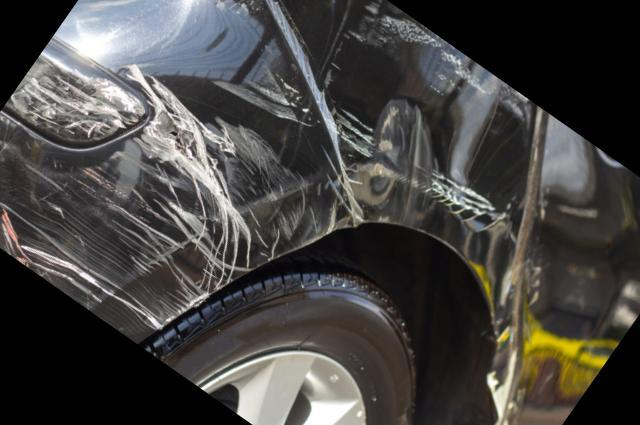scratch: (0, 58, 364, 341), (316, 0, 540, 241)
